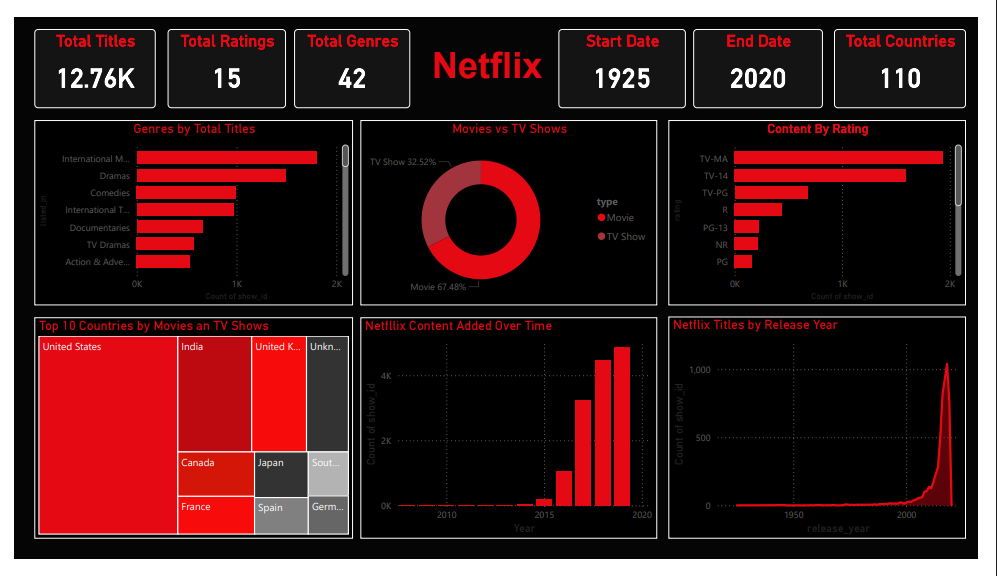

The page's visual inventory and layout, read from the dashboard file:
{"tool":"powerbi","page":{"name":"Netflix Dashboard","canvas":[1280,720],"ordinal":0},"visuals":[{"type":"card","title":"Total Titles","fields":{"Values":["CountNonNull(NETFLIX-DATA-CLEANED.show_id)"]},"box":[27.5,15.9,160.5,105.5],"z":0},{"type":"card","title":"Total Ratings","fields":{"Values":["Count(NETFLIX-DATA-CLEANED.rating)"]},"box":[203.9,15.9,157.6,105.5],"z":1000},{"type":"card","title":"Total Genres","fields":{"Values":["NETFLIX-DATA-CLEANED.Total Genres1"]},"box":[371.6,15.9,154.7,105.5],"z":2000},{"type":"card","title":"Start Date","fields":{"Values":["NETFLIX-DATA-CLEANED.Start Year"]},"box":[722.9,15.9,169.2,105.5],"z":3000},{"type":"card","title":"End Date","fields":{"Values":["NETFLIX-DATA-CLEANED.End Year"]},"box":[902.2,15.9,172,105.5],"z":4000},{"type":"card","title":"Total Countries","fields":{"Values":["Count(NetflixCountries.country)"]},"box":[1088.7,15.9,174.9,105.5],"z":5000},{"type":"clusteredBarChart","title":"Genres by Total Titles","fields":{"Category":["NetflixGenres.listed_in"],"Y":["Count(NetflixGenres.show_id)"]},"box":[27.5,137.3,422.2,245.8],"z":6000},{"type":"donutChart","title":"Movies vs TV Shows","fields":{"Category":["NetflixGenres.type"],"Y":["Count(NetflixGenres.show_id)"]},"box":[459.8,137.3,394.7,245.8],"z":7000},{"type":"clusteredBarChart","title":"Content By Rating","fields":{"Category":["NetflixGenres.rating"],"Y":["Count(NetflixGenres.show_id)"]},"box":[868.9,137.3,394.7,245.8],"z":8000},{"type":"areaChart","title":"Netflix Titles by Release Year","fields":{"Category":["NetflixCountries.release_year"],"Y":["Count(NetflixCountries.show_id)"]},"box":[868.9,397.6,394.7,294.9],"z":9000},{"type":"textbox","box":[494.5,31.8,267.5,105.5],"z":10000},{"type":"treemap","title":"Top 10 Countries by Movies an TV Shows","fields":{"Group":["NetflixCountries.country"],"Values":["Count(NetflixCountries.show_id)"]},"box":[27.5,399,422.2,293.5],"z":11000},{"type":"clusteredColumnChart","title":"Netfllix Content Added Over Time","fields":{"Category":["NetflixCountries.date_added.Variation.Date Hierarchy.Year","NetflixCountries.date_added.Variation.Date Hierarchy.Quarter","NetflixCountries.date_added.Variation.Date Hierarchy.Month","NetflixCountries.date_added.Variation.Date Hierarchy.Day"],"Y":["CountNonNull(NetflixCountries.show_id)"]},"box":[459.8,399,394.7,293.5],"z":12000}]}

Visuals, with their boxes in screenshot pixels (x1, y1, x2, y2), scaled from the page's 1280x720 canvas onto the 997x576 screenshot:
"Total Titles" card: select_region(21, 13, 146, 97)
"Total Ratings" card: select_region(159, 13, 282, 97)
"Total Genres" card: select_region(289, 13, 410, 97)
"Start Date" card: select_region(563, 13, 695, 97)
"End Date" card: select_region(703, 13, 837, 97)
"Total Countries" card: select_region(848, 13, 984, 97)
"Genres by Total Titles" clusteredBarChart: select_region(21, 110, 350, 306)
"Movies vs TV Shows" donutChart: select_region(358, 110, 666, 306)
"Content By Rating" clusteredBarChart: select_region(677, 110, 984, 306)
"Netflix Titles by Release Year" areaChart: select_region(677, 318, 984, 554)
textbox: select_region(385, 25, 594, 110)
"Top 10 Countries by Movies an TV Shows" treemap: select_region(21, 319, 350, 554)
"Netfllix Content Added Over Time" clusteredColumnChart: select_region(358, 319, 666, 554)
